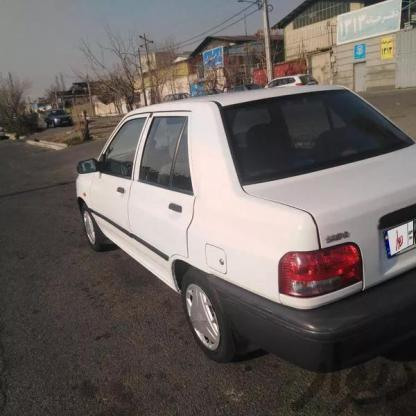Car: (64, 96, 416, 351), (258, 68, 325, 93), (56, 105, 73, 140)
